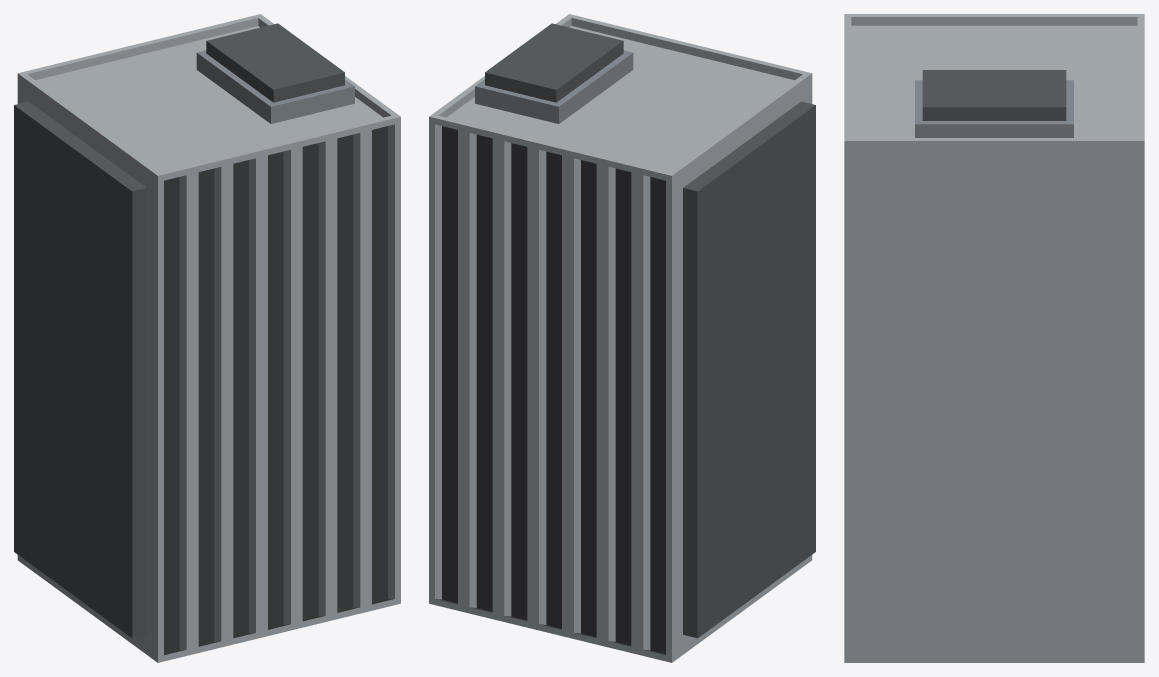
Rendered from talo11.fbx.
3 renders of one model, left to right at view 1: azimuth 30°, elevation 25°; view 2: azimuth 150°, elevation 25°; view 3: azimuth 270°, elevation 25°, orthographic. The views are drawn at different scales.
Visible parts, largest first — view 1: talo11; view 2: talo11; view 3: talo11.
Part boxes in pixels (x1,y1,x2,y2): talo11: [14, 14, 400, 662]; talo11: [429, 14, 815, 662]; talo11: [844, 14, 1144, 662].
Bounding box in the file's own units: 212 × 401 × 200.
